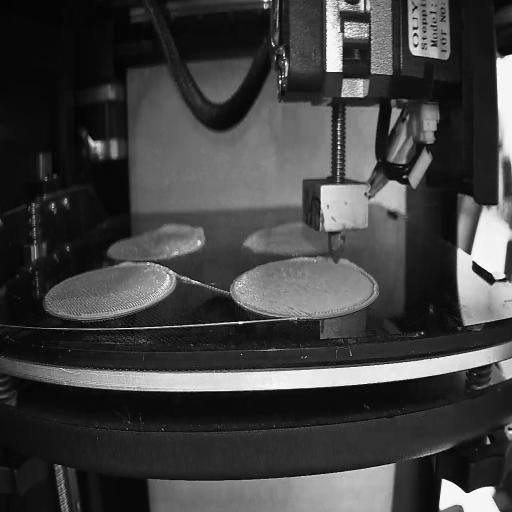over_extrusion: (157, 221, 205, 242), (362, 266, 380, 312), (115, 258, 144, 272), (292, 255, 321, 265), (340, 257, 355, 269)
